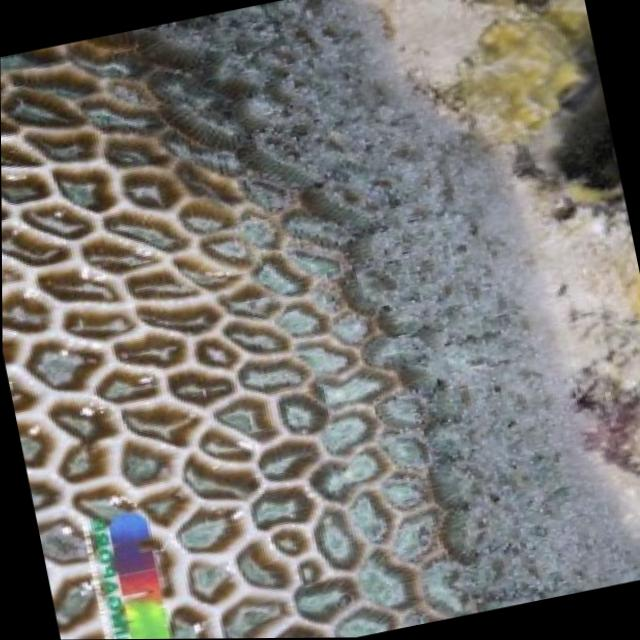Bleached Coral: (0, 0, 631, 640)
